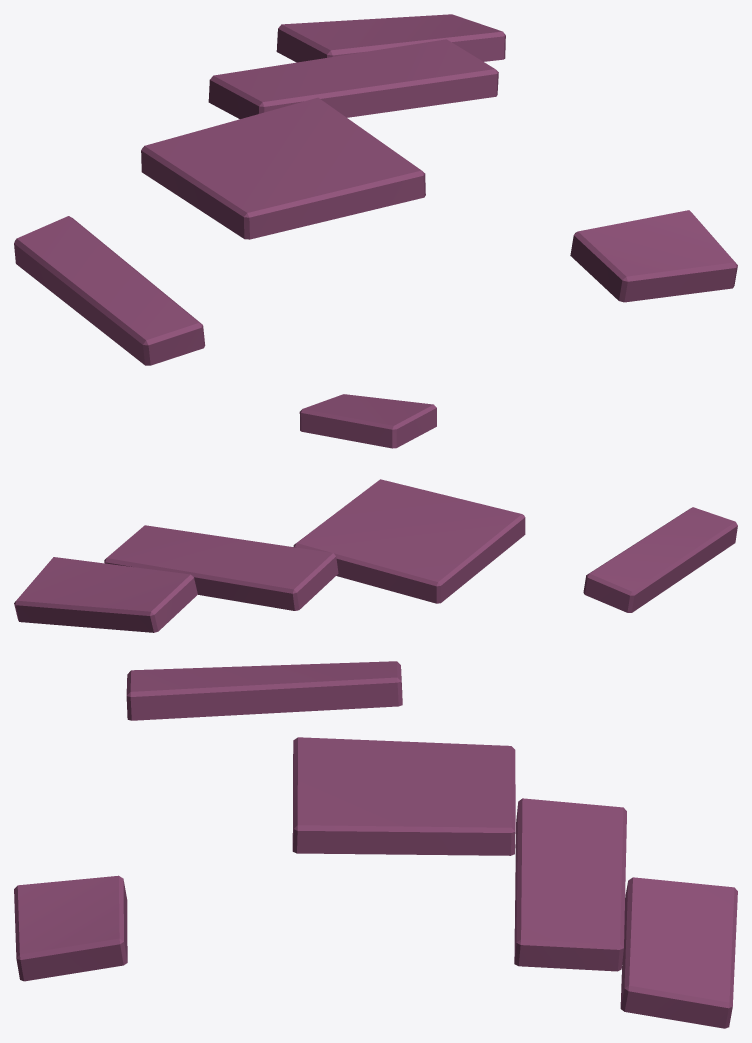
File: SM_floorTiles03_low.fbx
3 views of the same model, one above another, from view 1: azimuth 30°, elevation 25°; view 2: azimuth 150°, elevation 25°; view 3: azimuth 270°, elevation 25° (orthographic). The views are drawn at different scales.
Parts seen in each view (by area): view 1: Plane.025; view 2: Plane.025; view 3: Plane.025.
Boxes of the visible parts, box(x1,y1,x2,y2) form: Plane.025: box(14, 14, 737, 365); Plane.025: box(14, 394, 737, 632); Plane.025: box(14, 661, 737, 1028).
Bounding box in the file's own units: 498 × 64.21 × 499.
